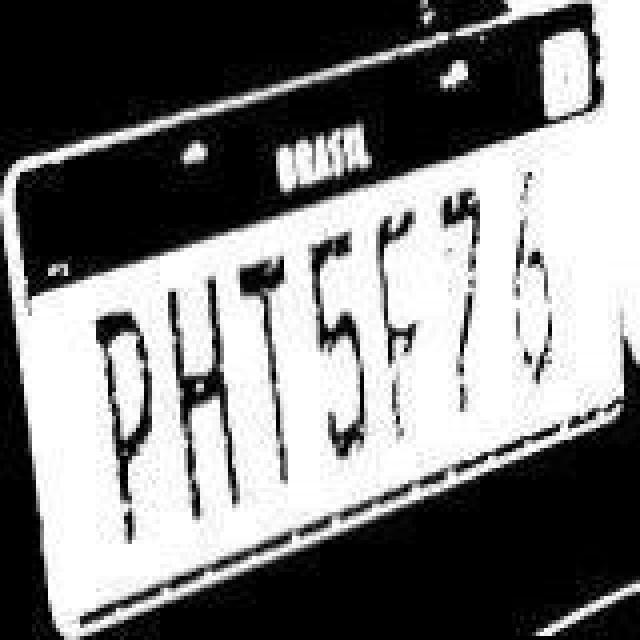5: (306, 206, 366, 478)
6: (496, 150, 560, 402)
7: (428, 170, 500, 434)
F: (372, 188, 428, 464)
H: (156, 256, 244, 540)
P: (90, 294, 158, 570)
T: (234, 236, 294, 512)
